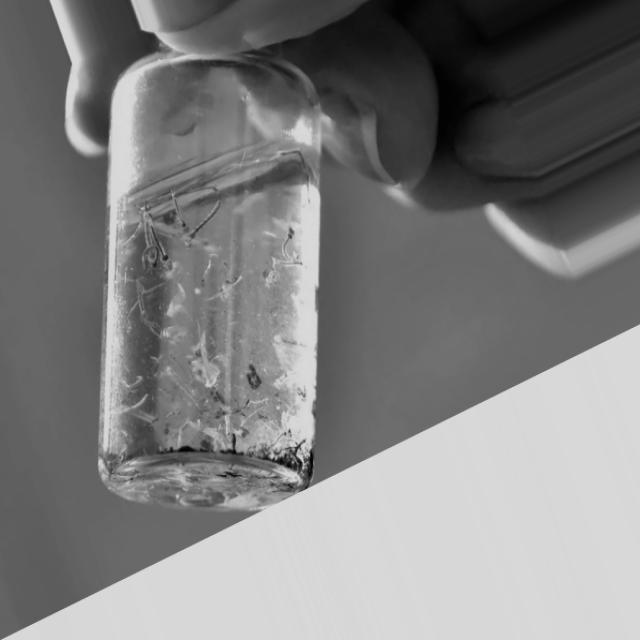larvas: (181, 191, 227, 255), (148, 216, 176, 272), (135, 291, 159, 329), (283, 149, 310, 181), (168, 190, 188, 227), (280, 226, 300, 260), (277, 331, 307, 351), (269, 258, 303, 271), (200, 262, 211, 290), (141, 220, 152, 247), (119, 378, 143, 390), (264, 272, 278, 290), (148, 249, 161, 266), (141, 252, 151, 274), (273, 432, 288, 446), (190, 187, 220, 194), (160, 231, 184, 238)
